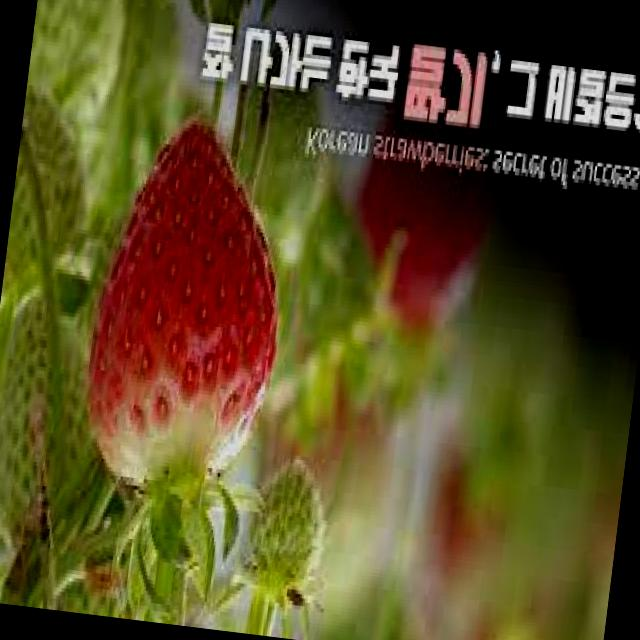Strawberry: (70, 110, 302, 508), (0, 296, 107, 541), (5, 96, 96, 296), (234, 458, 334, 600)
